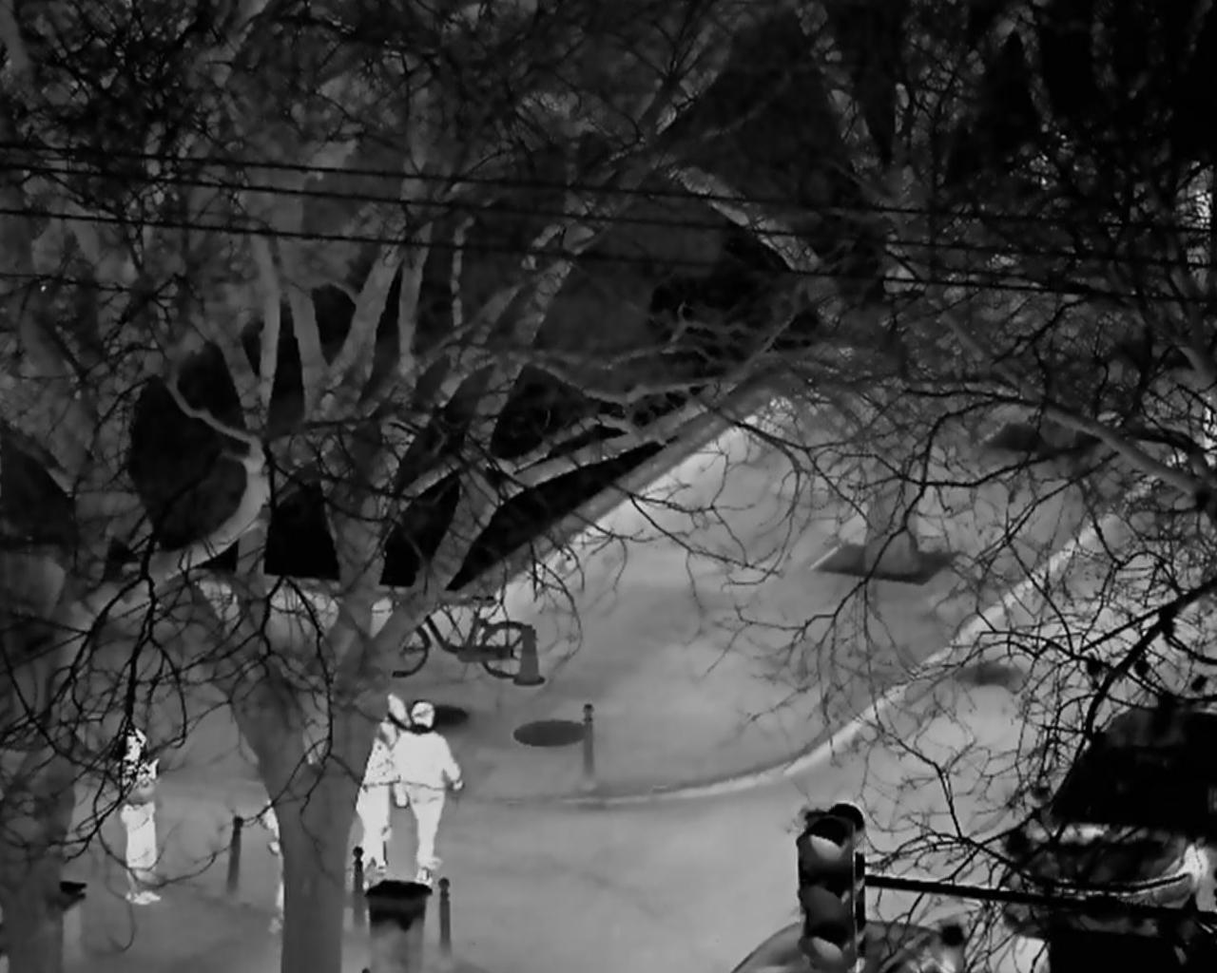person: (396, 702, 463, 875), (349, 697, 399, 874), (116, 729, 160, 905)
